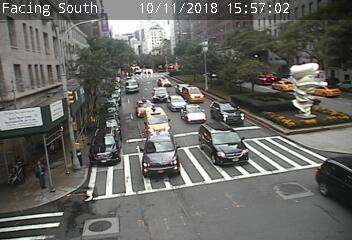car: (199, 122, 248, 166), (142, 131, 178, 176), (210, 101, 243, 124), (145, 107, 170, 135), (180, 104, 206, 124), (137, 100, 155, 119), (167, 95, 187, 112), (183, 86, 204, 102), (152, 87, 169, 102), (176, 84, 191, 94), (156, 78, 171, 87)
